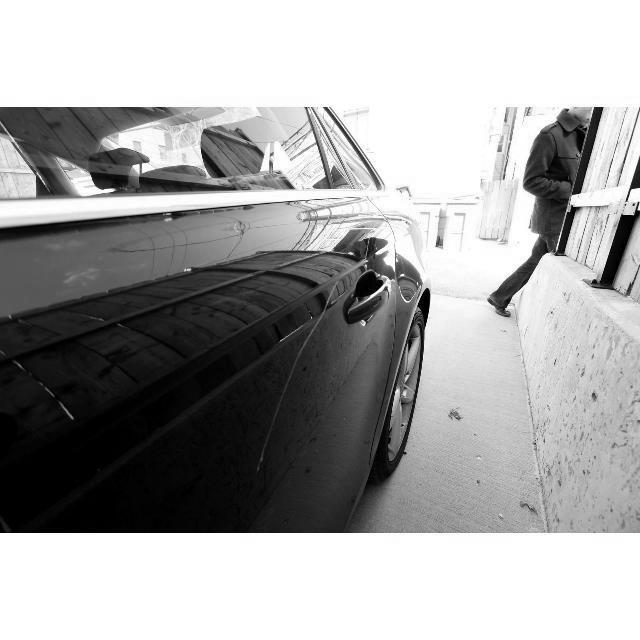doorouter-dent: (189, 213, 399, 529)
